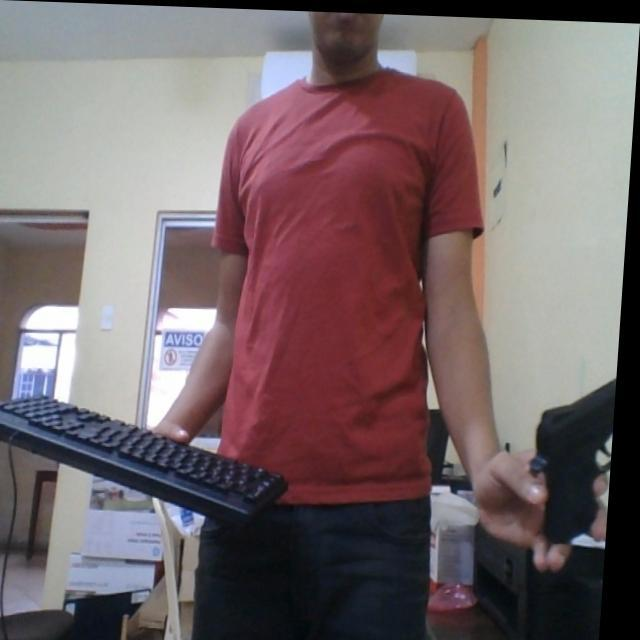weapon: (528, 363, 622, 544)
